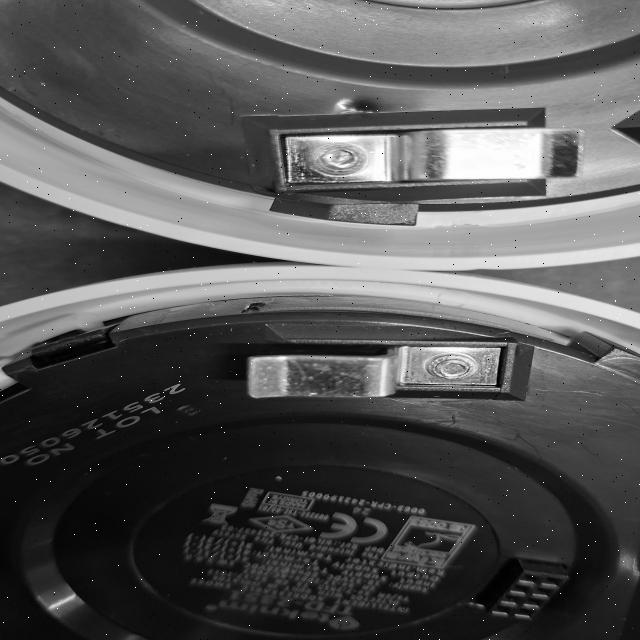yaysiz: (249, 107, 633, 220), (210, 333, 536, 407)
